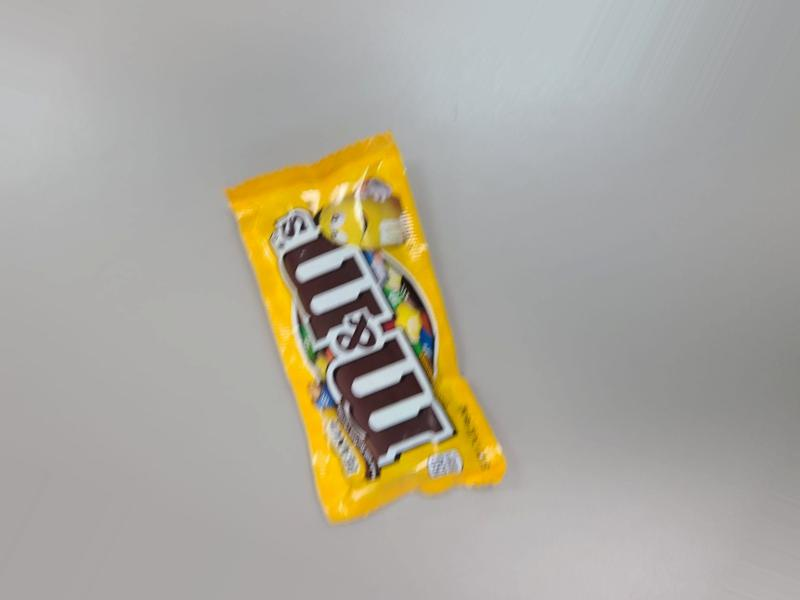m&m: (217, 138, 521, 523)
